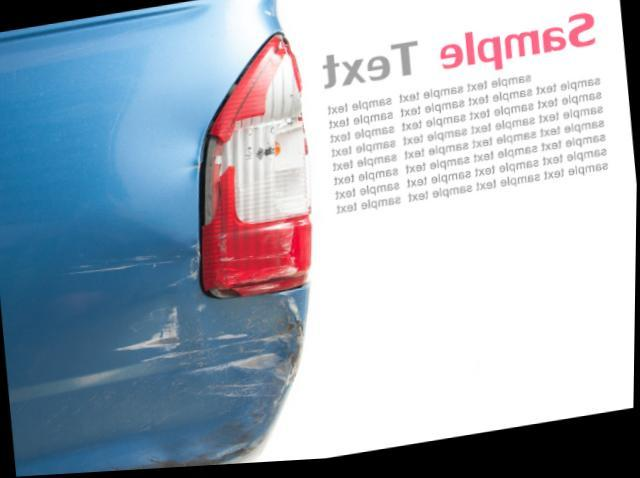dent: (35, 278, 302, 472), (128, 94, 224, 235)
lamp broken: (196, 38, 314, 306)
scratch: (56, 245, 201, 275)
